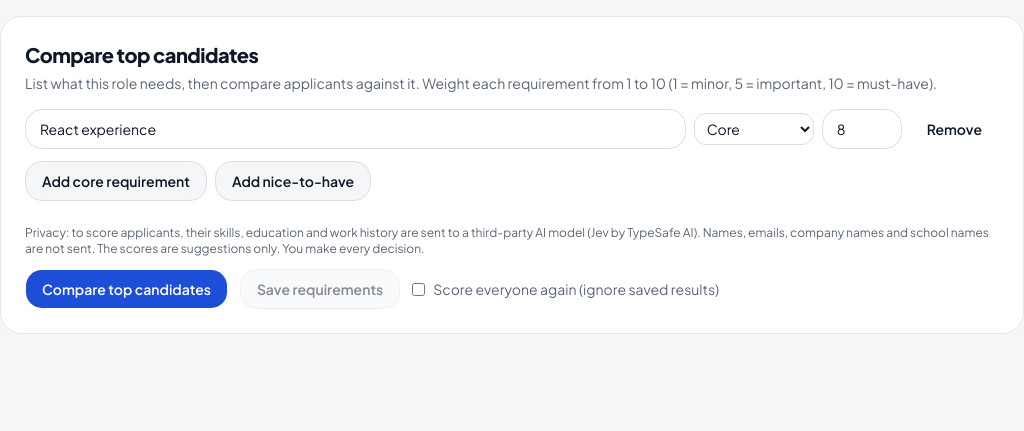
Test: CandidateComparison › saves edited requirements with a PUT
The image size is (1024, 431).
Click the button "Add nice-to-have" at (293, 181), box x1=215 y1=161 x2=371 y2=201
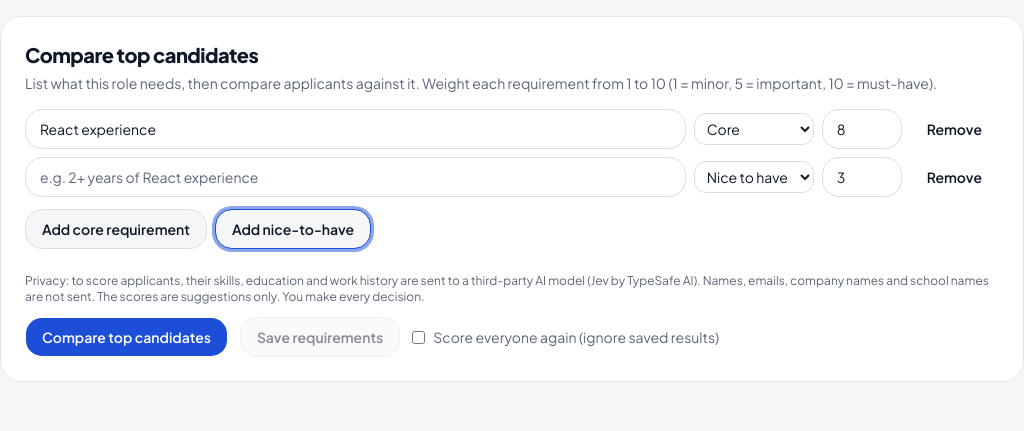
Type "SQL" into the field named "Requirement 2" at (355, 177), box x1=25 y1=157 x2=686 y2=197
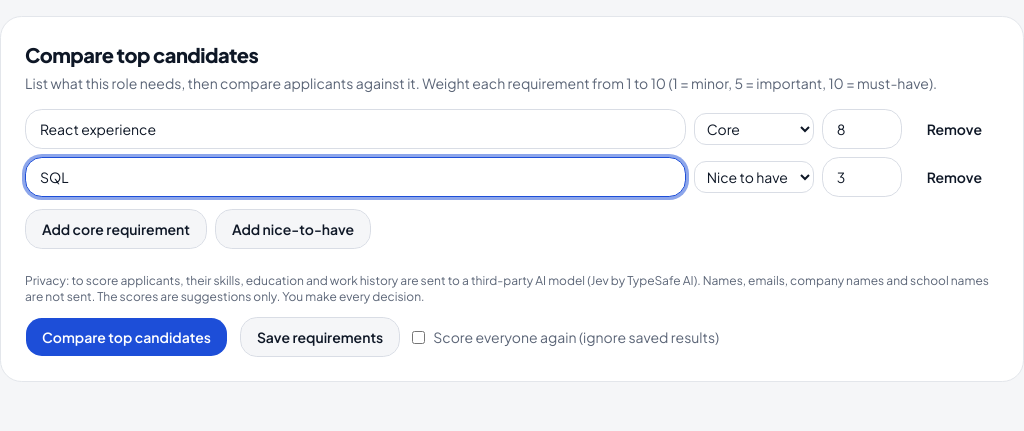
Click the button "Save requirements" at (320, 337), box x1=240 y1=317 x2=400 y2=357
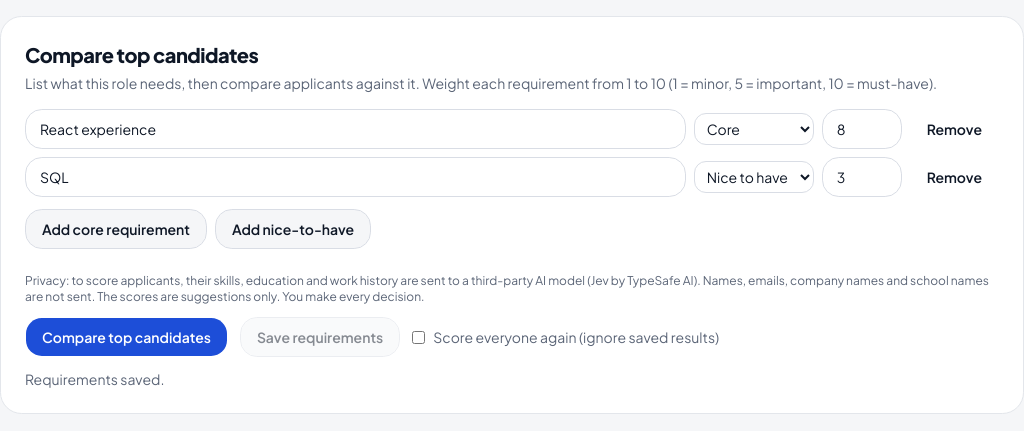
Result: the text "Requirements saved." is shown at x1=25 y1=370 x2=164 y2=388
